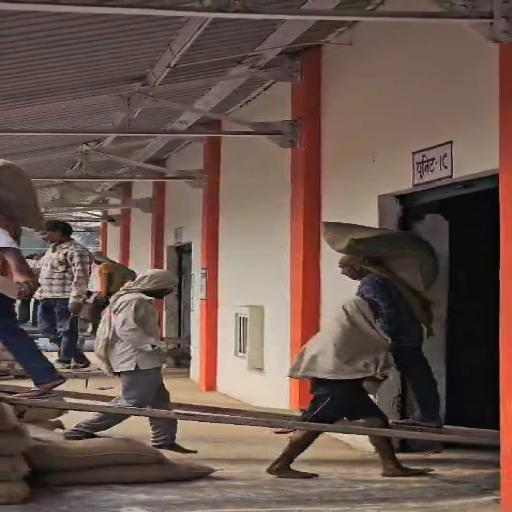bag: (320, 217, 445, 293)
